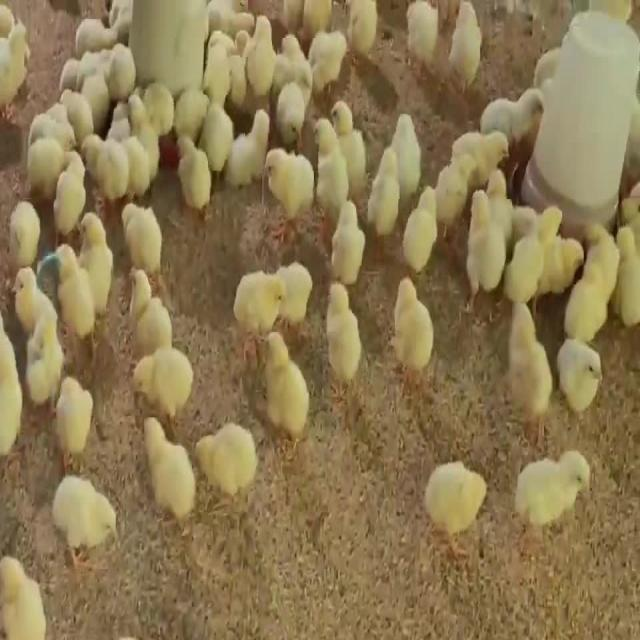poussin: (509, 446, 596, 544), (48, 473, 121, 579), (419, 456, 488, 562), (141, 412, 195, 524), (264, 330, 316, 442), (388, 272, 438, 382), (510, 302, 553, 428), (322, 280, 366, 393), (556, 339, 616, 418), (570, 242, 622, 332), (190, 428, 259, 494), (56, 243, 96, 352), (263, 145, 308, 241), (224, 106, 274, 189), (52, 374, 97, 464), (128, 354, 194, 414), (126, 270, 173, 351), (73, 212, 117, 298), (470, 194, 505, 300), (123, 93, 161, 190), (482, 90, 547, 145), (0, 560, 44, 640), (23, 315, 60, 410), (397, 0, 441, 76), (402, 187, 442, 270), (331, 102, 371, 184), (174, 129, 213, 213), (117, 200, 165, 268), (329, 199, 366, 286), (434, 158, 476, 233), (450, 0, 481, 100), (448, 135, 518, 178), (313, 121, 348, 206), (232, 270, 282, 328), (371, 148, 404, 234), (80, 136, 125, 199), (536, 244, 588, 296), (305, 35, 352, 91), (5, 197, 43, 264), (53, 156, 86, 233), (9, 266, 51, 326), (507, 218, 538, 299), (271, 264, 314, 321), (23, 138, 65, 196), (249, 20, 276, 106), (78, 58, 112, 126), (392, 114, 423, 187), (29, 111, 78, 154), (351, 0, 379, 69), (276, 85, 308, 144)
